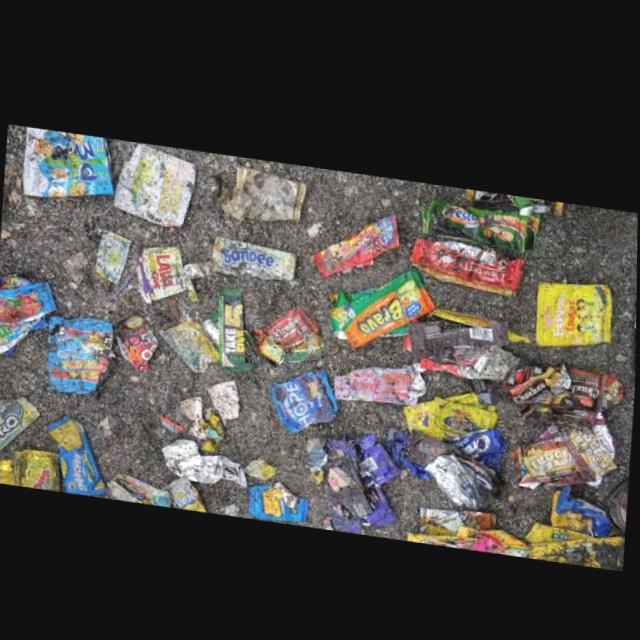wrapper: (311, 421, 416, 527), (412, 300, 523, 371), (519, 401, 618, 480), (114, 141, 197, 225), (419, 189, 542, 244), (502, 352, 626, 406), (23, 127, 115, 198), (411, 229, 525, 286), (405, 500, 534, 549), (312, 206, 404, 271), (46, 313, 115, 394), (533, 270, 616, 337), (402, 381, 500, 433), (221, 161, 308, 217), (523, 512, 626, 559), (50, 414, 109, 496), (269, 365, 343, 428), (0, 277, 59, 356), (543, 476, 621, 528), (335, 355, 427, 399), (211, 231, 298, 277), (108, 470, 205, 509), (137, 242, 198, 301), (247, 471, 312, 519), (220, 283, 255, 368), (115, 308, 160, 371), (0, 446, 64, 490), (93, 230, 137, 289), (463, 181, 567, 205), (0, 397, 41, 455)
